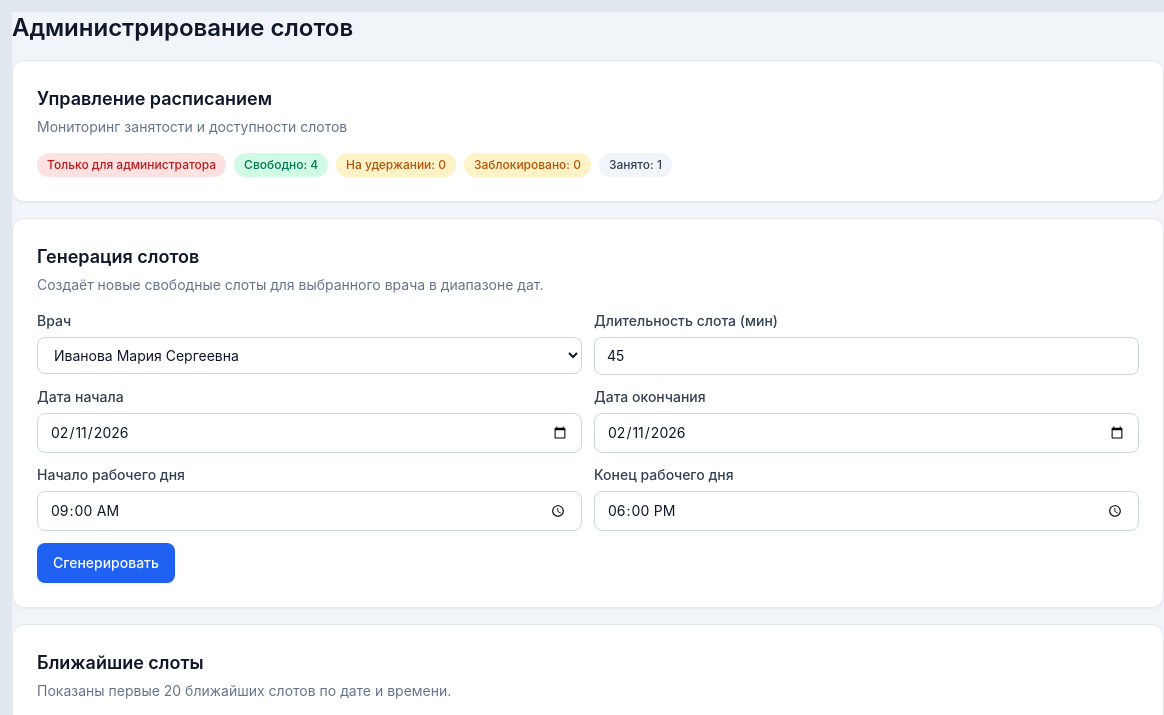
Test: AdminSlotsPage integration › не даёт сгенерировать слоты в прошлом
expect the heading "Ближайшие слоты" is shown: met, box x1=37 y1=652 x2=204 y2=673
Type "2026-02-09" into the date field labelled "Дата начала".
click(310, 433); type("2026-02-09")  # box x1=37 y1=413 x2=582 y2=453
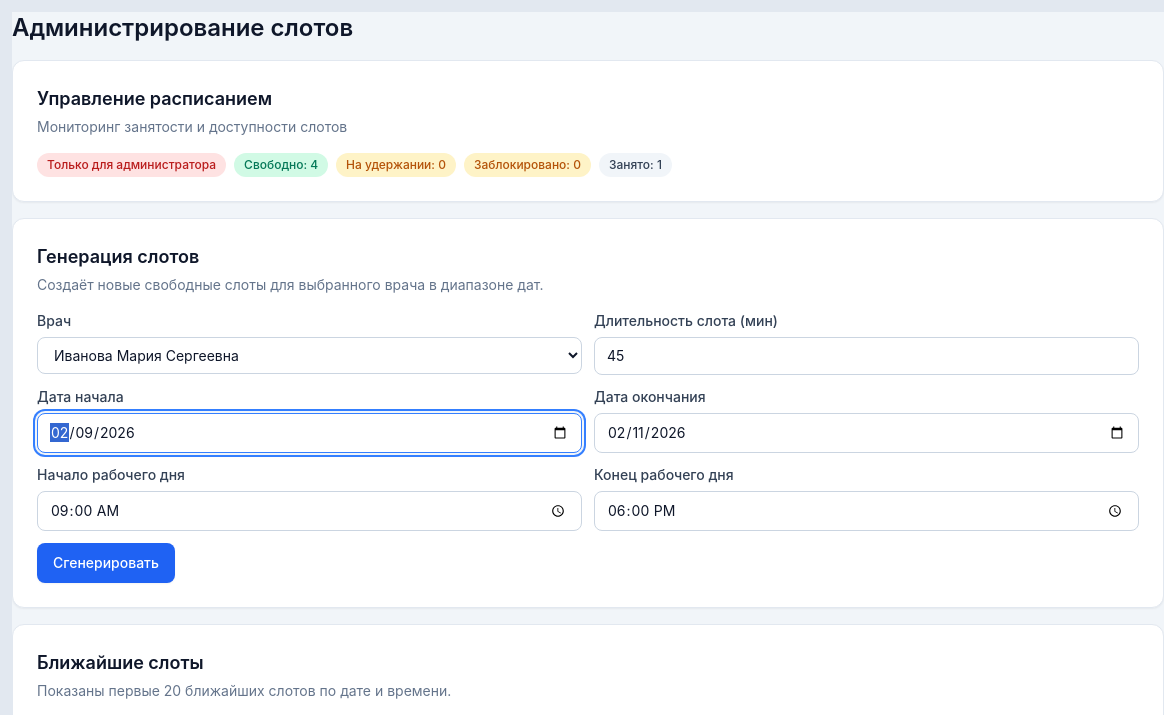
Type "2026-02-09" into the date field labelled "Дата окончания".
click(866, 433); type("2026-02-09")  # box x1=594 y1=413 x2=1139 y2=453
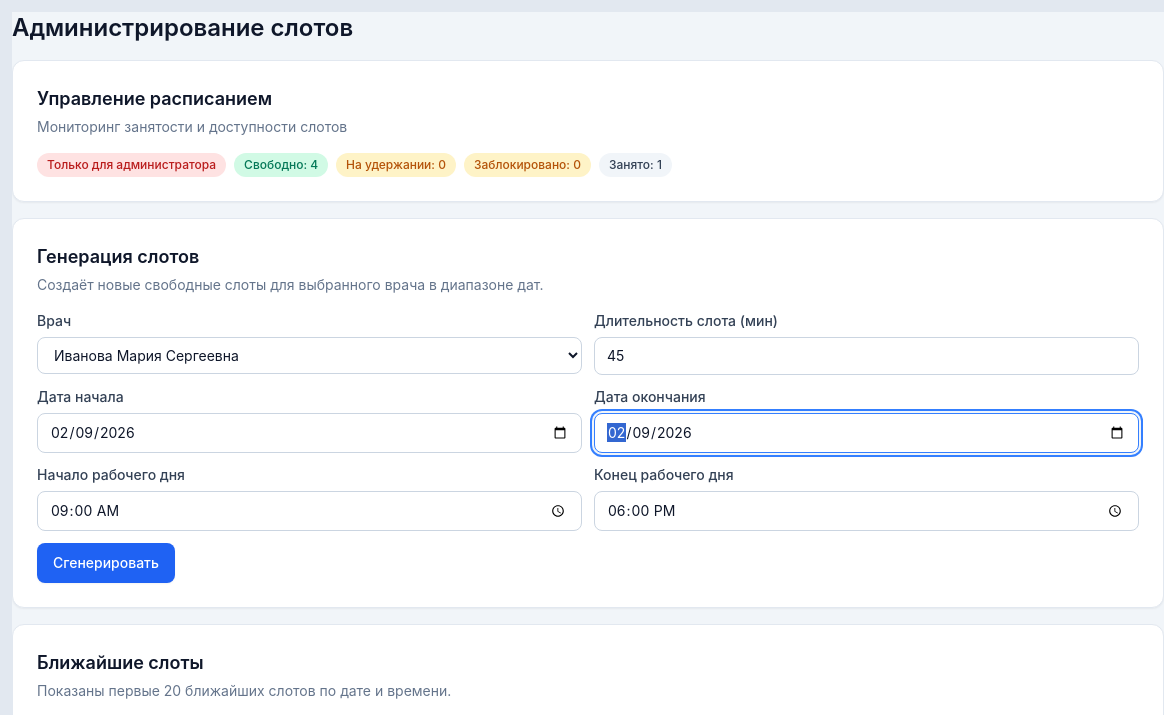
Click the button "Сгенерировать".
click(106, 563)  # box x1=37 y1=543 x2=175 y2=583
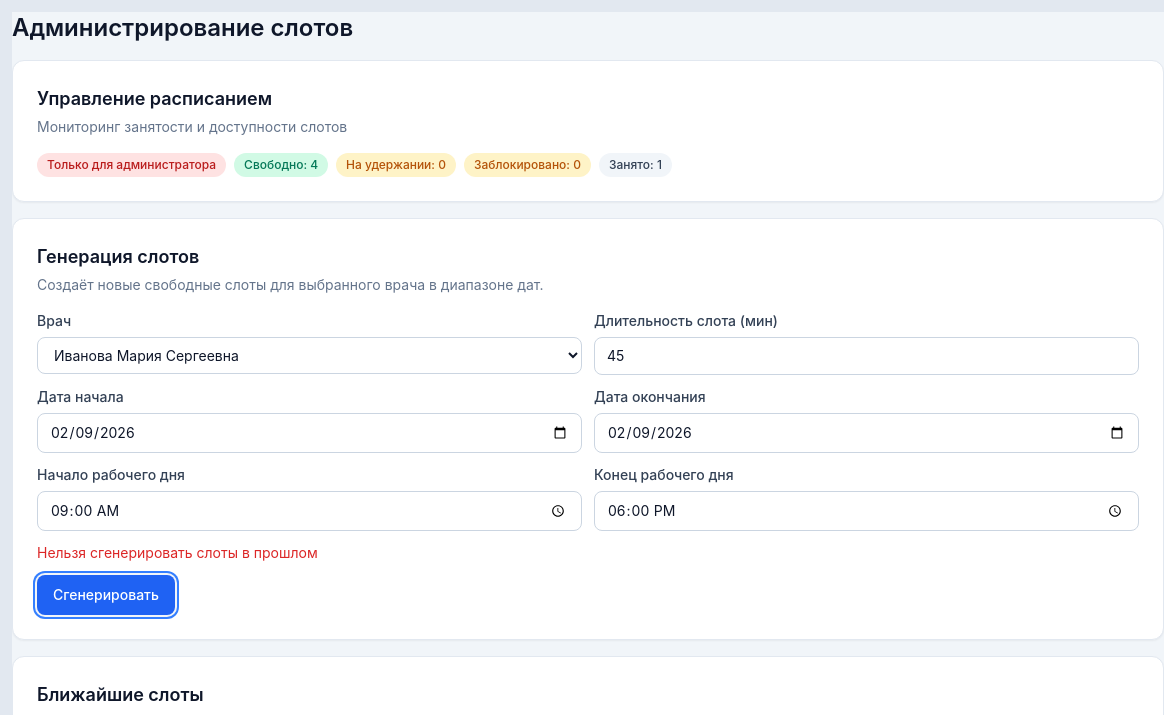
expect the text "Нельзя сгенерировать слоты в прошлом" is shown: met, box x1=37 y1=544 x2=318 y2=561
